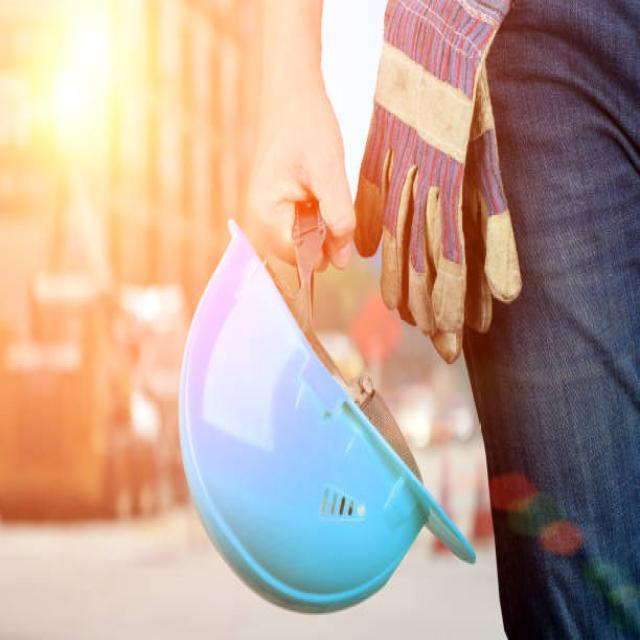Gloves: (346, 0, 534, 368)
helmet: (176, 218, 484, 616)
person: (240, 2, 640, 640)
